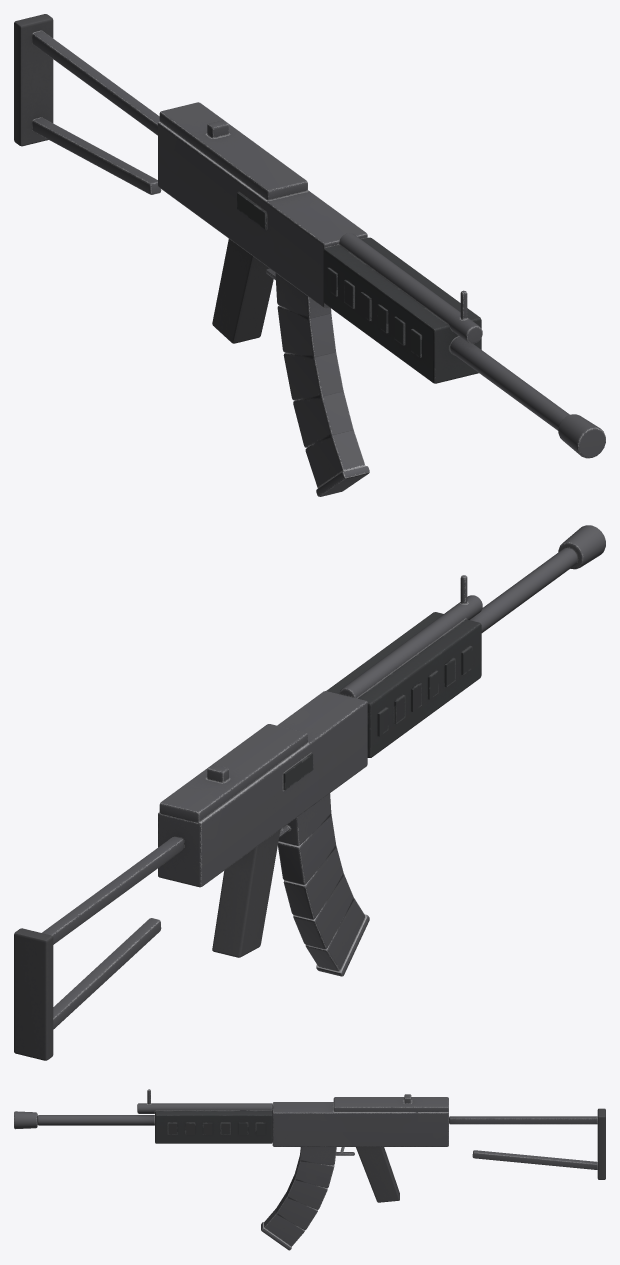
Rendered from galil.fbx.
3 views of the same model, one above another, from view 1: azimuth 30°, elevation 25°; view 2: azimuth 150°, elevation 25°; view 3: azimuth 270°, elevation 25° (orthographic). The views are drawn at different scales.
Parts seen in each view (by area): view 1: galil; view 2: galil; view 3: galil.
Part boxes in pixels (bbox=[...]): galil: bbox=[14, 14, 605, 496]; galil: bbox=[14, 525, 605, 1060]; galil: bbox=[14, 1089, 605, 1250].
Size of the model in its own units: 0.054 by 0.2968 by 1.01.
